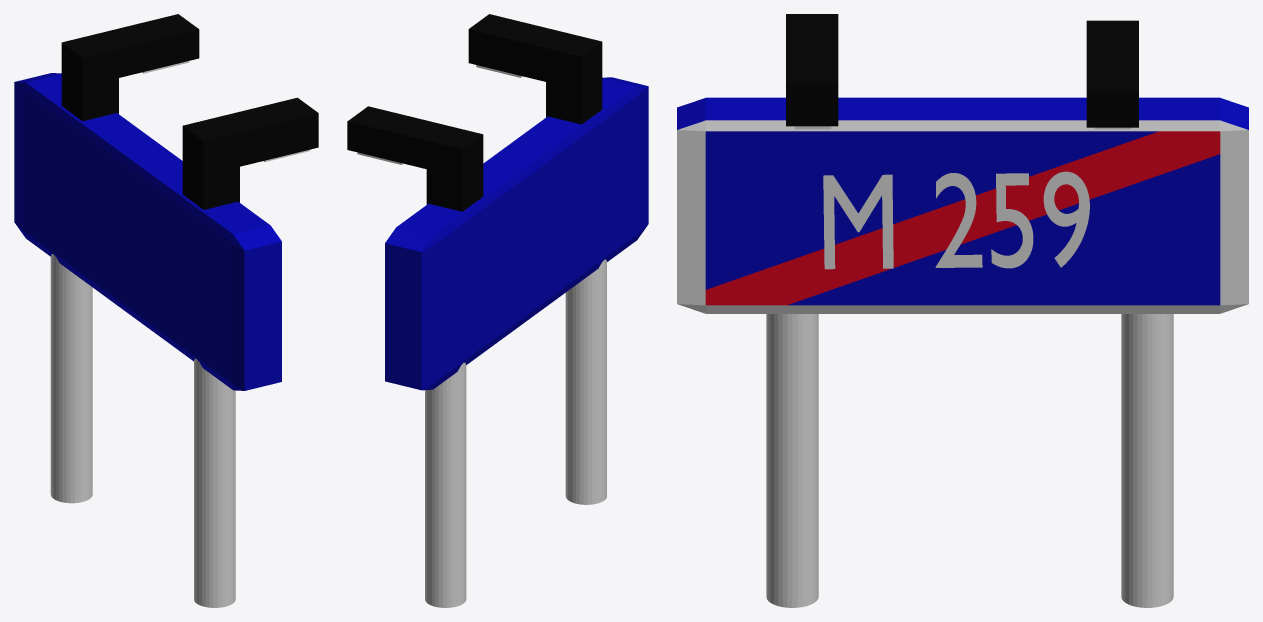
File: UK_motorway_end_1.fbx
The picture shows the model from 3 angles, left to right: view 1: azimuth 30°, elevation 25°; view 2: azimuth 150°, elevation 25°; view 3: azimuth 270°, elevation 25°; orthographic projection. The views are drawn at different scales.
Visible parts, largest first — view 1: Cube, Cylinder.001, Cylinder, Cube.001, Cube.002; view 2: Cube, Cylinder.001, Cylinder, Cube.001, Cube.002; view 3: Cube, Cylinder, Cylinder.001, Text, Cube.001, Cube.002.
Boxes of the visible parts, bbox=[...] form: Cube: bbox=[14, 73, 281, 390]; Cylinder.001: bbox=[50, 254, 92, 503]; Cylinder: bbox=[194, 358, 235, 607]; Cube.001: bbox=[182, 97, 318, 209]; Cube.002: bbox=[61, 14, 199, 121]; Cube: bbox=[385, 77, 648, 390]; Cylinder.001: bbox=[425, 362, 466, 607]; Cylinder: bbox=[565, 259, 606, 504]; Cube.001: bbox=[468, 14, 602, 124]; Cube.002: bbox=[347, 106, 483, 211]; Cube: bbox=[677, 97, 1248, 313]; Cylinder: bbox=[766, 314, 818, 607]; Cylinder.001: bbox=[1121, 314, 1173, 607]; Text: bbox=[823, 171, 1089, 269]; Cube.001: bbox=[786, 14, 838, 126]; Cube.002: bbox=[1086, 20, 1138, 127].
Size of the model in its own units: 6.69 by 24.3 by 21.91.
